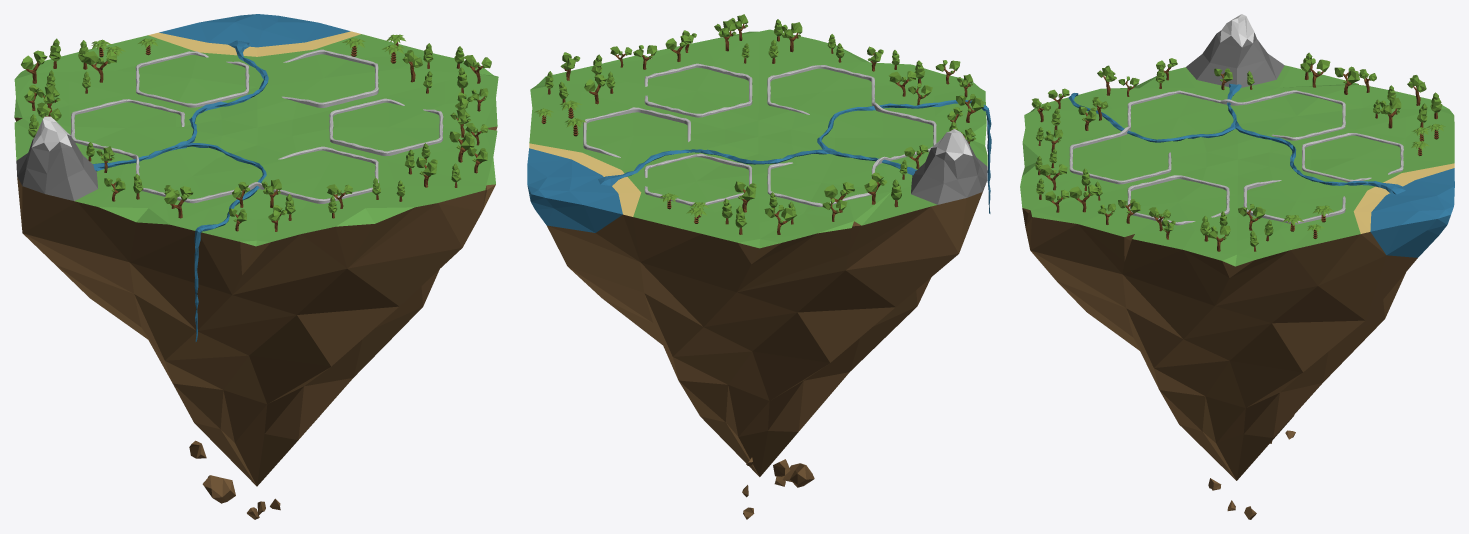
Rendered from Island_v004.fbx.
3 renders of one model, left to right at view 1: azimuth 30°, elevation 25°; view 2: azimuth 150°, elevation 25°; view 3: azimuth 270°, elevation 25°, orthographic. The views are drawn at different scales.
Visible parts, largest first — view 1: geo_Island, geo_Trees, geo_Walls, geo_Mountain, geo_River; view 2: geo_Island, geo_Trees, geo_Walls, geo_Mountain, geo_River; view 3: geo_Island, geo_Trees, geo_Walls, geo_Mountain, geo_River.
Boxes of the visible parts, bbox=[...] form: geo_Island: bbox=[14, 14, 498, 519]; geo_Trees: bbox=[21, 34, 491, 231]; geo_Walls: bbox=[70, 49, 443, 203]; geo_Mountain: bbox=[16, 116, 98, 200]; geo_River: bbox=[93, 40, 268, 341]; geo_Island: bbox=[527, 29, 987, 519]; geo_Trees: bbox=[534, 14, 984, 234]; geo_Walls: bbox=[583, 63, 936, 206]; geo_Mountain: bbox=[911, 129, 987, 204]; geo_River: bbox=[598, 100, 991, 213]; geo_Island: bbox=[1020, 65, 1454, 519]; geo_Trees: bbox=[1031, 52, 1445, 251]; geo_Walls: bbox=[1069, 90, 1403, 225]; geo_Mountain: bbox=[1186, 14, 1284, 87]; geo_River: bbox=[1068, 83, 1405, 194].
Size of the model in its own units: 233 by 216 by 208.
